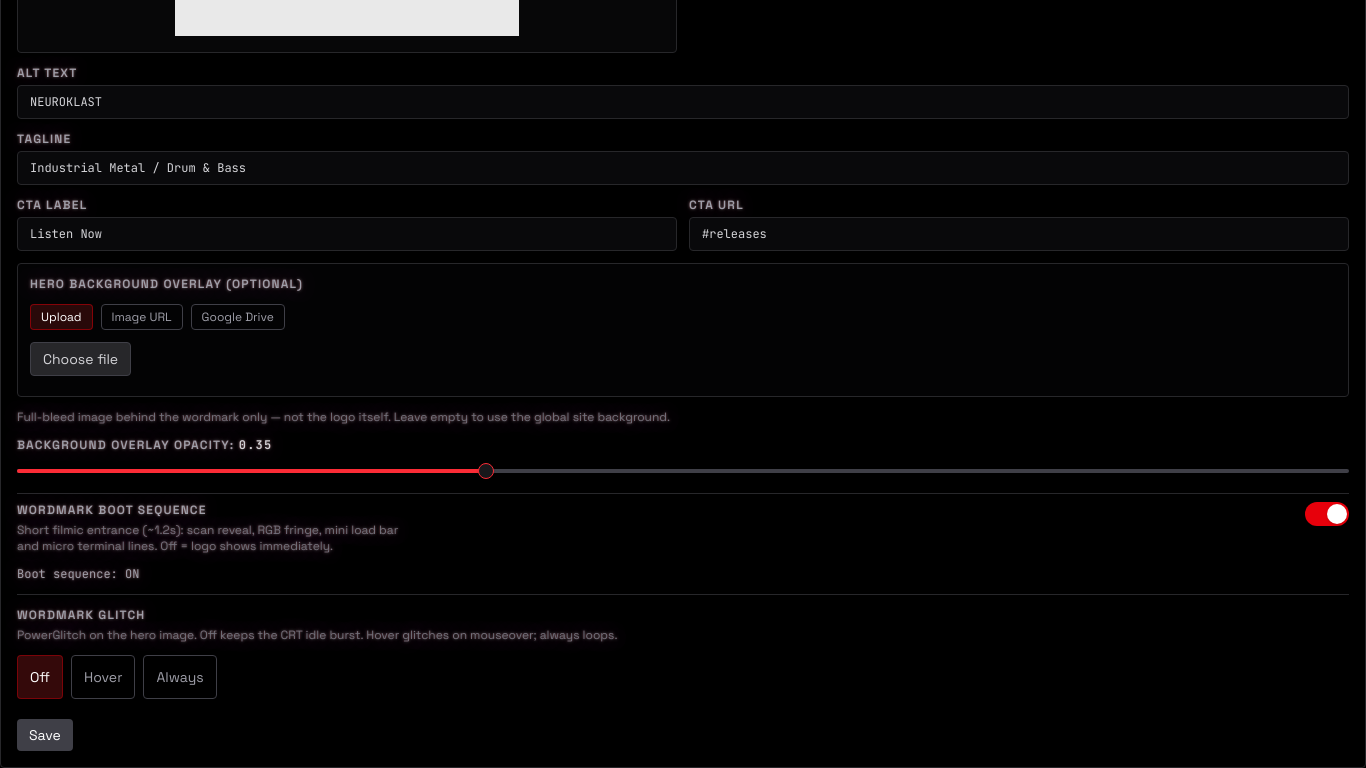
it: hero media editor integration › preserves save errors without success or refresh messages
The width and height of the screenshot is (1366, 768).
(page scrolled)
Click the button "Save". click: click(45, 735)
box: [17,719,73,751]
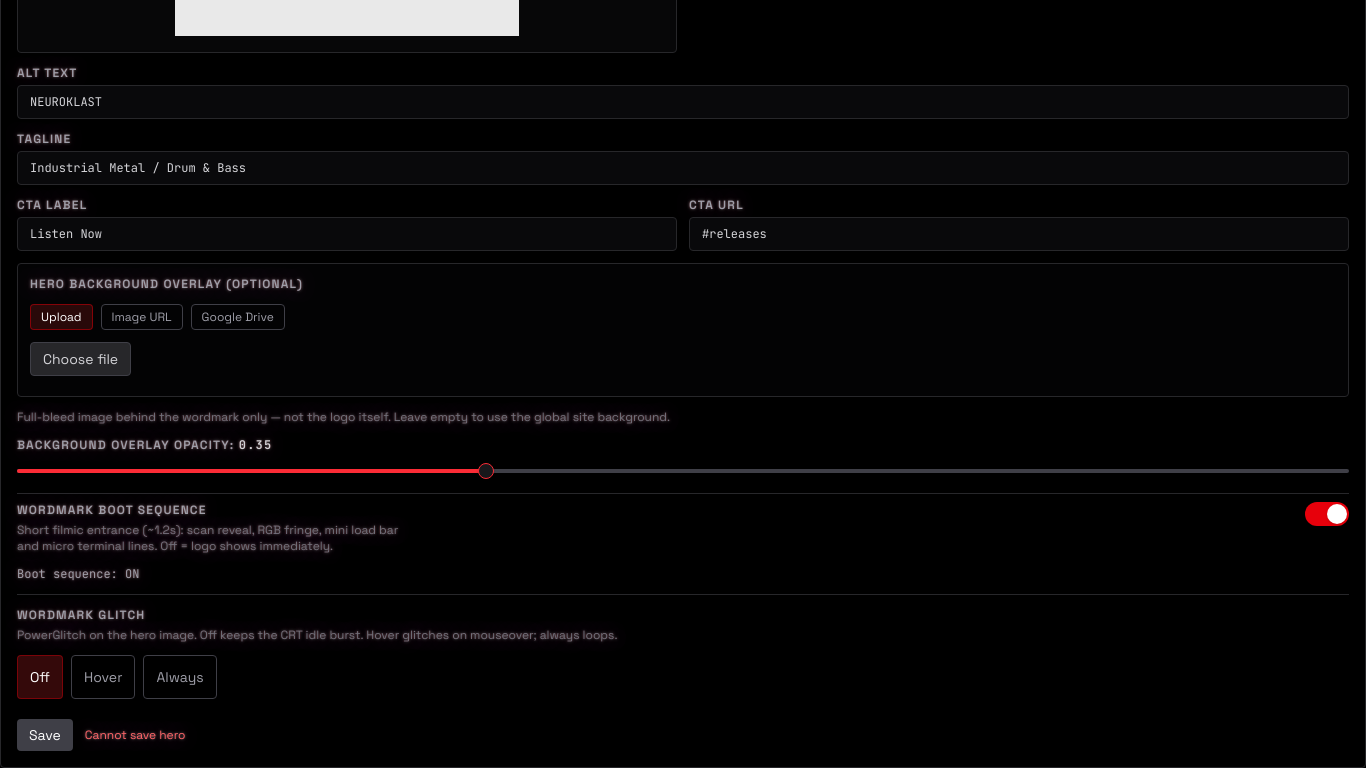
Expected: the text "Cannot save hero" is shown, [85,727,185,743]
